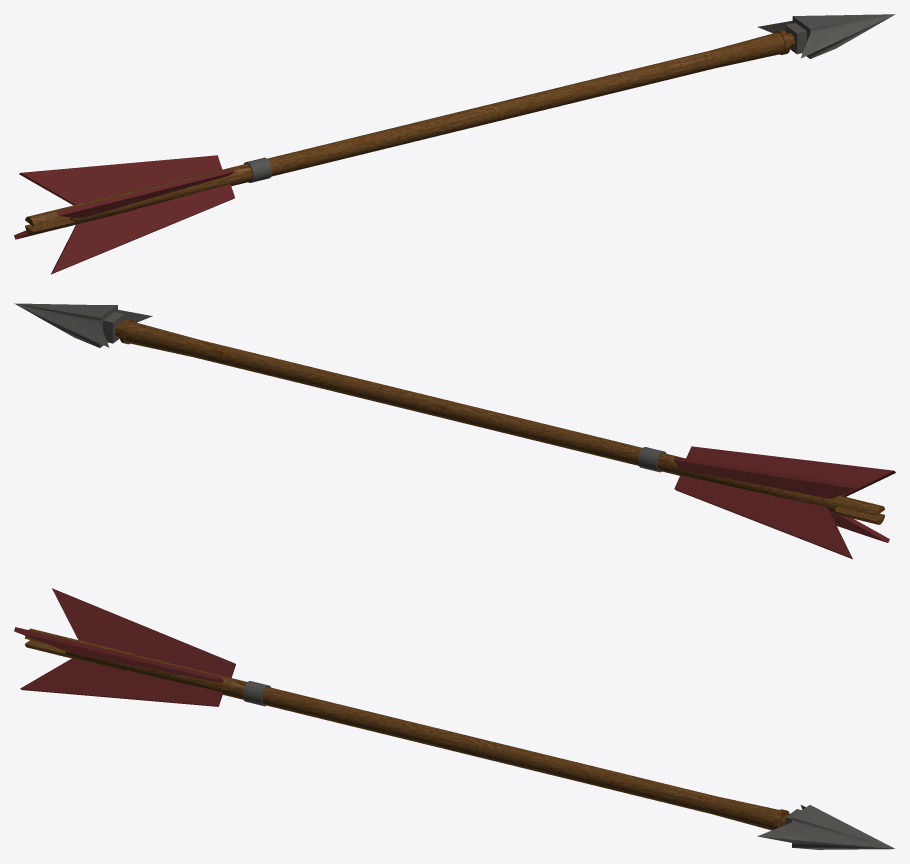
The model's file is arrow.glb.
The picture shows the model from 3 angles, top to bottom: view 1: azimuth 30°, elevation 25°; view 2: azimuth 150°, elevation 25°; view 3: azimuth 330°, elevation 25°; orthographic projection.
Parts seen in each view (by area): view 1: pCylinder1, polySurface3, polySurface6, pCube2, polySurface4; view 2: pCylinder1, polySurface5, polySurface4, polySurface3, pCube2, polySurface6; view 3: pCylinder1, polySurface3, polySurface6, pCube2, polySurface4.
Boxes of the visible parts, x1,y1,x2,y2 form: pCylinder1: (25, 30, 794, 235); polySurface3: (19, 155, 222, 205); polySurface6: (51, 184, 234, 274); pCube2: (758, 14, 895, 58); polySurface4: (57, 168, 234, 218); pCylinder1: (115, 319, 884, 524); polySurface5: (674, 475, 852, 559); polySurface4: (686, 446, 895, 496); polySurface3: (674, 457, 857, 498); pCube2: (14, 303, 152, 347); polySurface6: (831, 513, 889, 542); pCylinder1: (25, 628, 789, 830); polySurface3: (52, 588, 235, 677); polySurface6: (20, 658, 222, 706); pCube2: (757, 805, 894, 849); polySurface4: (14, 627, 223, 683).
Bounding box in the file's own units: 70.32 × 6.21 × 6.25.
3 materials, 2 textured.
